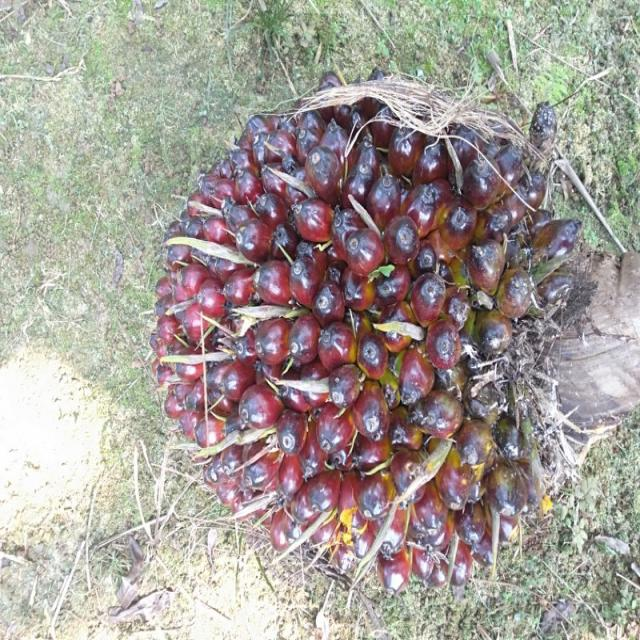fraksi 1: (119, 44, 587, 615)
